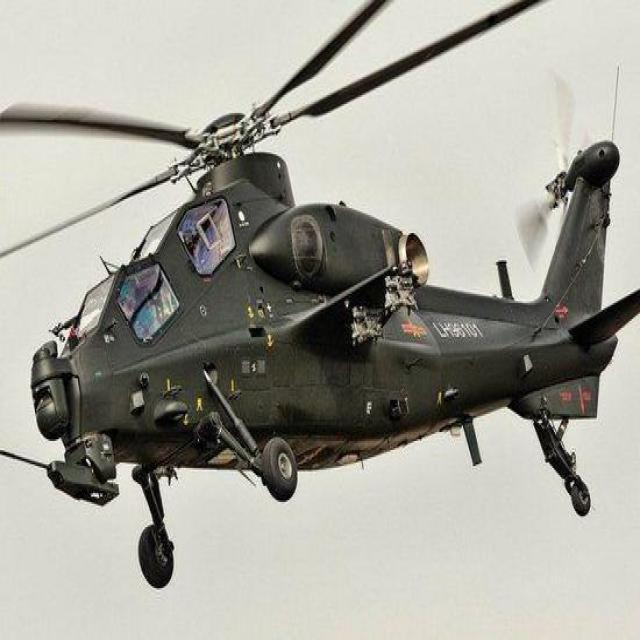MIL_HELO: (9, 12, 640, 581)
